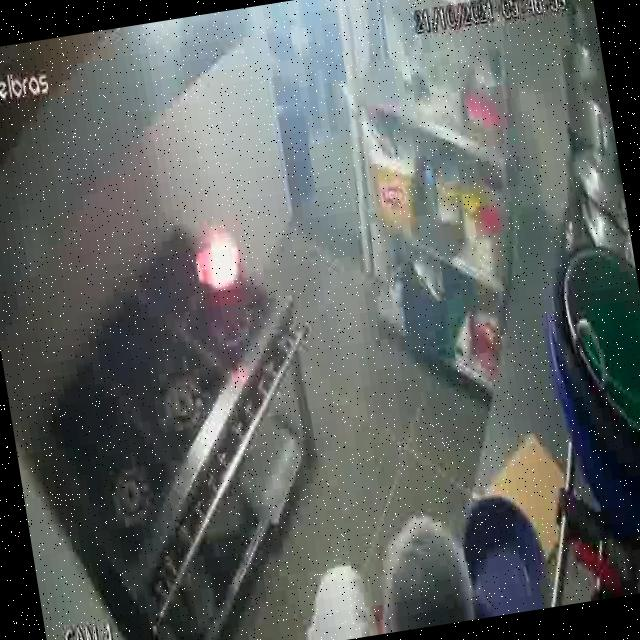fire: (188, 210, 250, 294)
